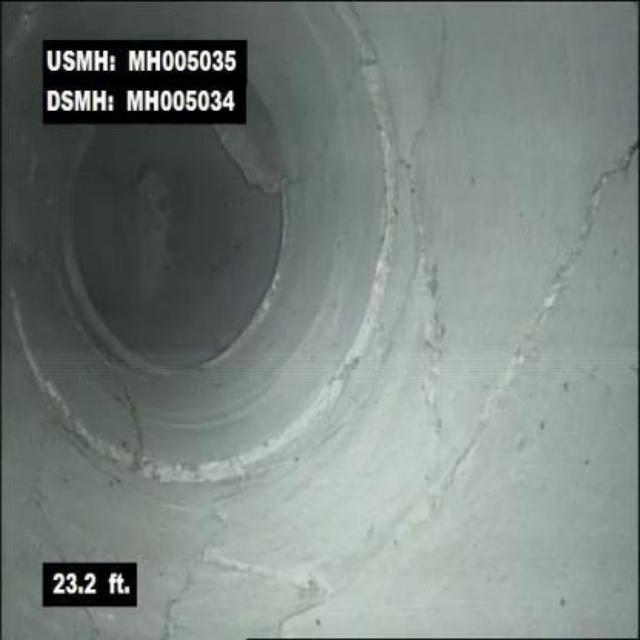Crack: (488, 138, 637, 403), (397, 162, 462, 463), (397, 2, 463, 154), (194, 543, 334, 594), (269, 594, 337, 632), (157, 578, 191, 634)
Joint offset: (297, 232, 400, 426), (75, 425, 282, 483)
